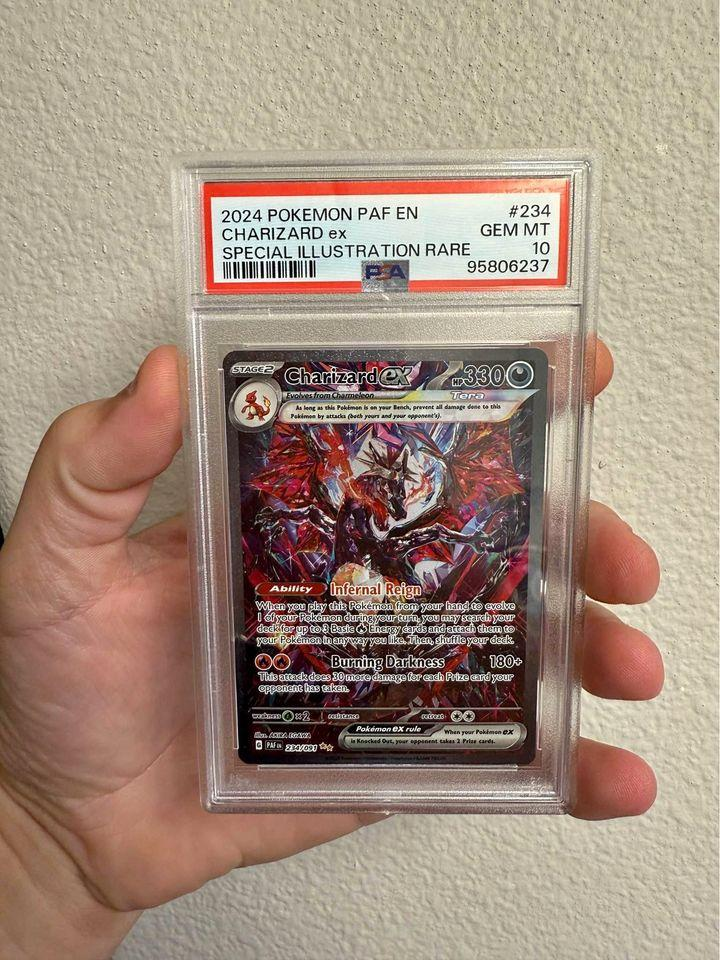card: (222, 345, 551, 767)
